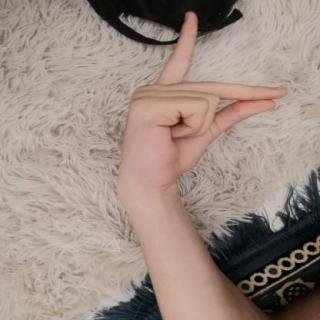TAA: (106, 6, 296, 195)
